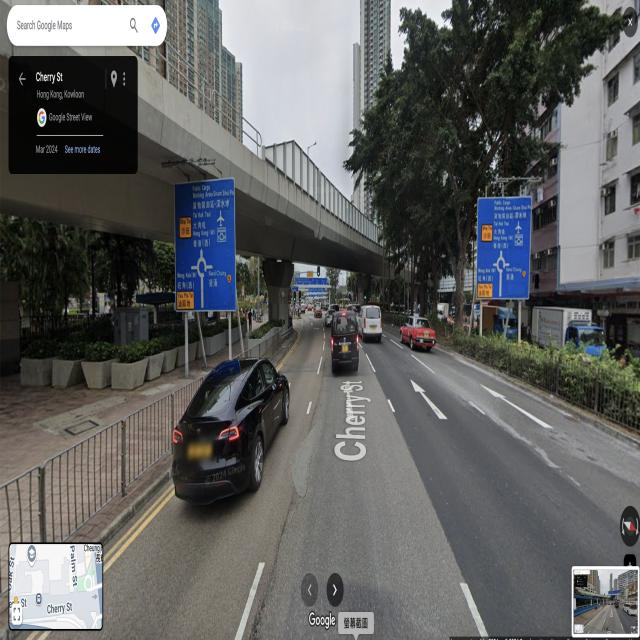Direction-Sign: (175, 179, 236, 310), (477, 196, 532, 300), (295, 278, 327, 285), (309, 287, 325, 293), (292, 286, 298, 291), (309, 294, 315, 297), (317, 294, 323, 297)
